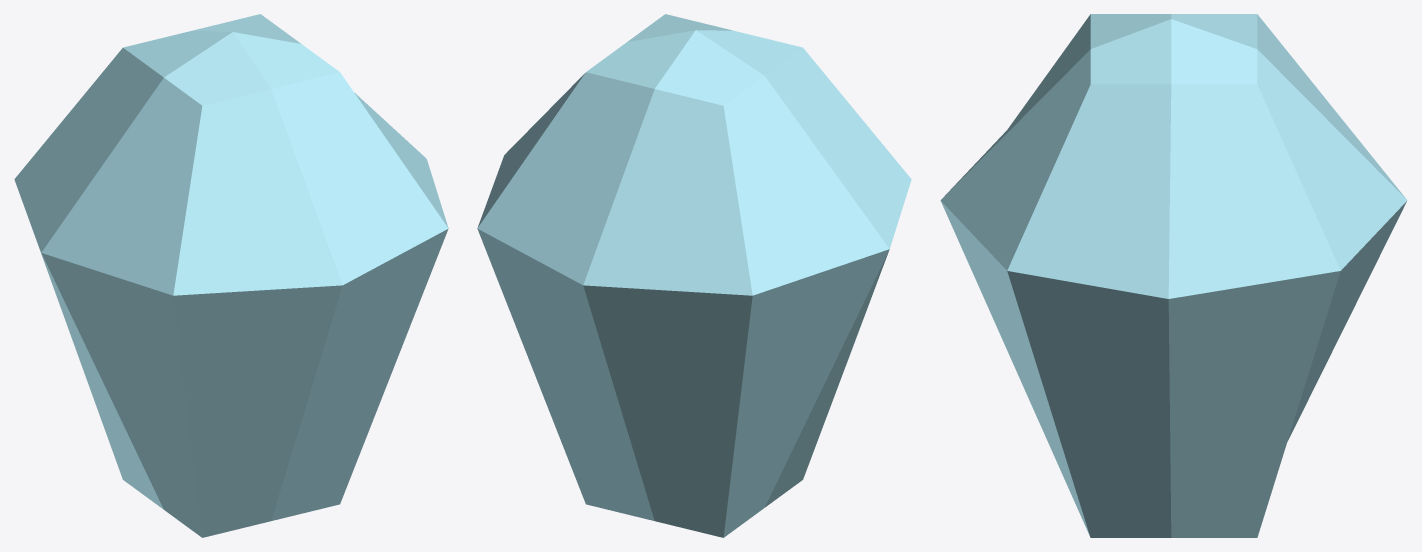
Rendered from Diamond.fbx.
3 renders of one model, left to right at view 1: azimuth 30°, elevation 25°; view 2: azimuth 150°, elevation 25°; view 3: azimuth 270°, elevation 25°, orthographic. The views are drawn at different scales.
Parts seen in each view (by area): view 1: Cube; view 2: Cube; view 3: Cube.
Boxes of the visible parts, <box> form: Cube: <box>14,14,448,537</box>; Cube: <box>477,14,911,537</box>; Cube: <box>940,14,1407,537</box>.
Bounding box in the file's own units: 140 × 160 × 140.
